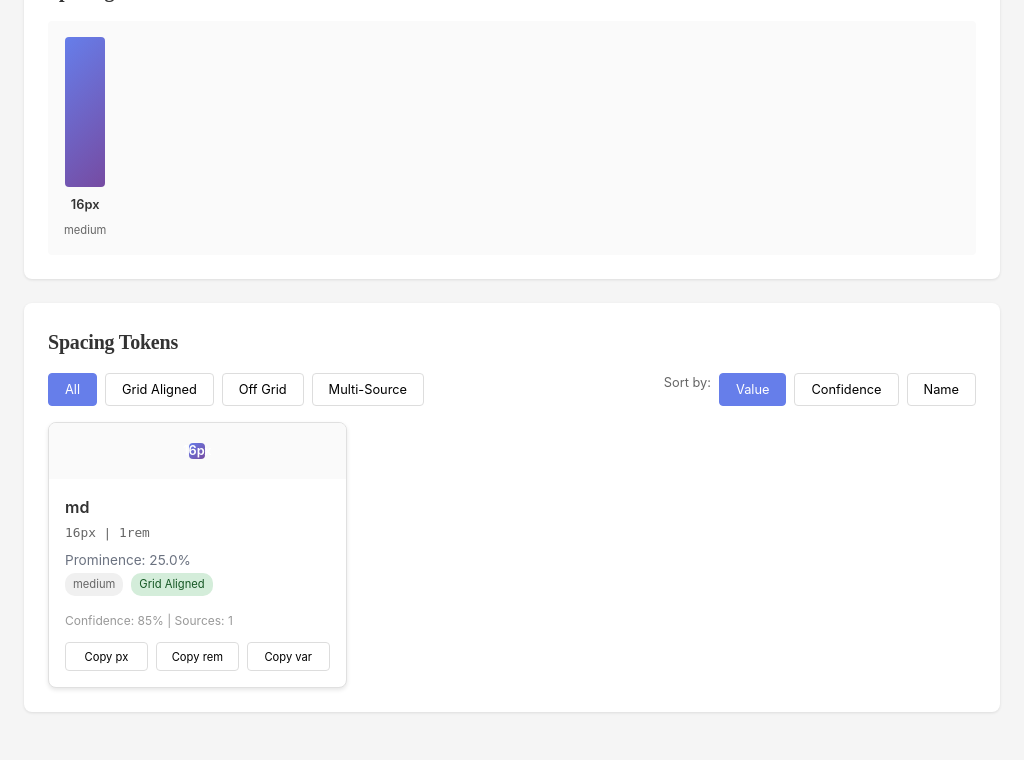
it: SpacingTokenShowcase Integration Tests › should handle copy to clipboard
(page scrolled)
Click the button "Copy px": [106, 657] box [65,642,148,671]
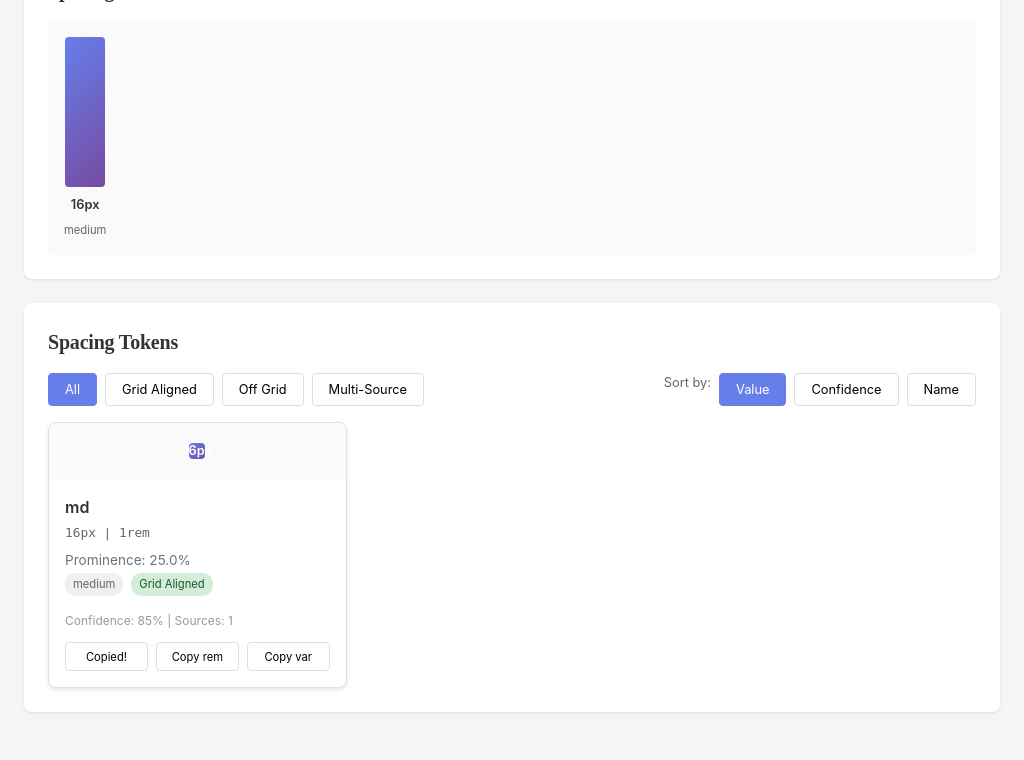
Now the button "Copied!" is shown, box [65,642,148,671]
